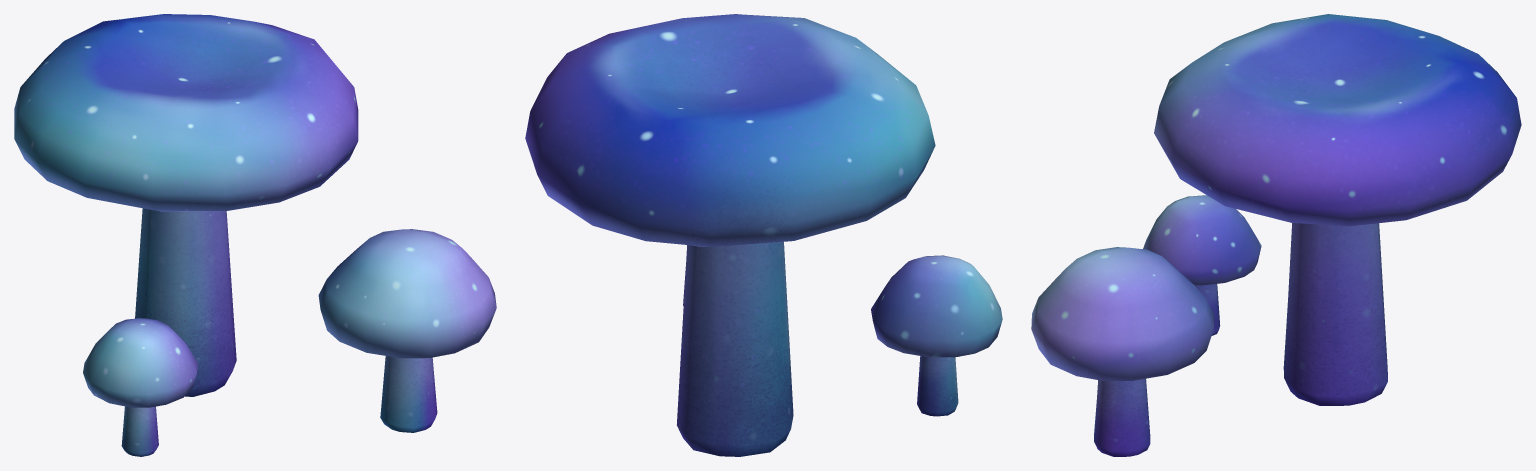
The model's file is Mushroom_09.gltf.
The picture shows the model from 3 angles, left to right: view 1: azimuth 30°, elevation 25°; view 2: azimuth 150°, elevation 25°; view 3: azimuth 270°, elevation 25°; orthographic projection. The views are drawn at different scales.
Visible parts, largest first — view 1: Mushroom_09(Clone); view 2: Mushroom_09(Clone); view 3: Mushroom_09(Clone).
Part boxes in pixels (bbox=[...]): Mushroom_09(Clone): bbox=[14, 14, 496, 456]; Mushroom_09(Clone): bbox=[525, 14, 1002, 456]; Mushroom_09(Clone): bbox=[1031, 14, 1521, 456].
Bounding box in the file's own units: 5.19 × 4.39 × 6.02.
1 material, 1 textured.
